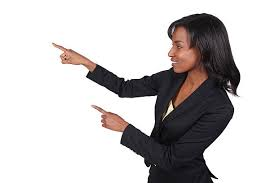pointing_gesture: (50, 41, 91, 66), (90, 104, 124, 134)
